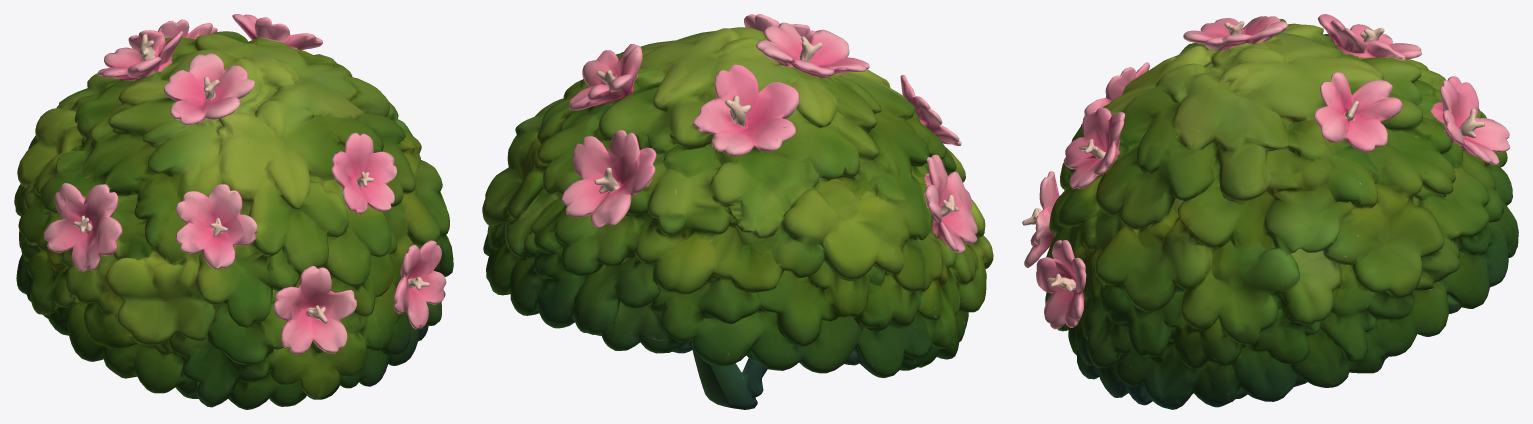
File: azalea_bush.glb
The picture shows the model from 3 angles, left to right: view 1: azimuth 30°, elevation 25°; view 2: azimuth 150°, elevation 25°; view 3: azimuth 270°, elevation 25°; orthographic projection. The views are drawn at different scales.
Bounding box in the file's own units: 1.26 × 1 × 1.29.
1 material, 1 textured.
